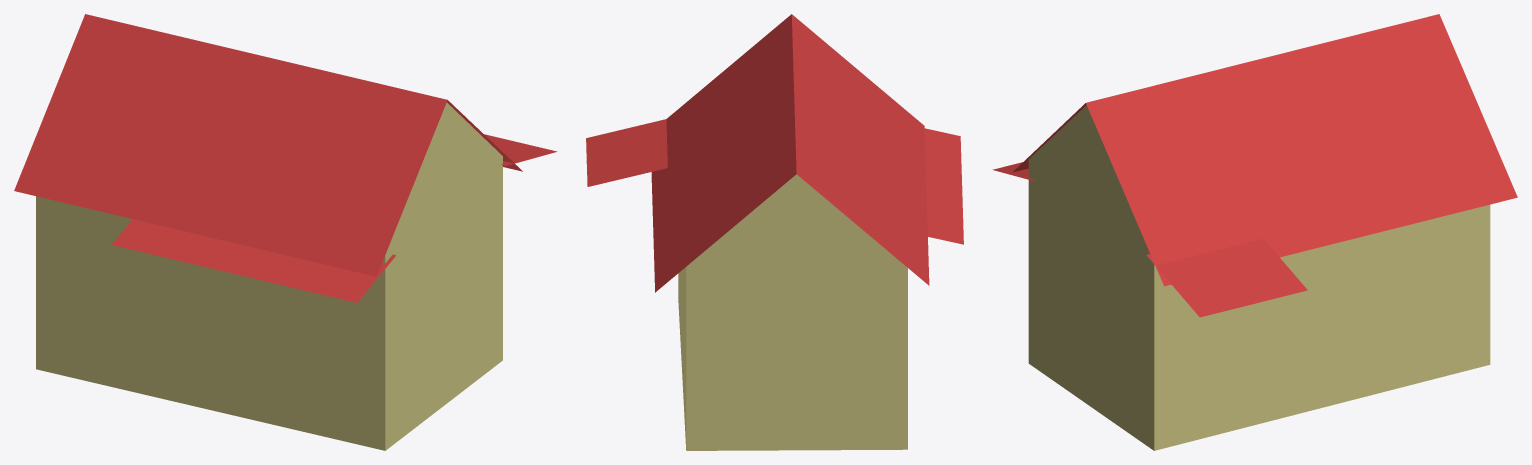
3 views of the same model, side by side, from view 1: azimuth 30°, elevation 25°; view 2: azimuth 150°, elevation 25°; view 3: azimuth 270°, elevation 25° (orthographic). The views are drawn at different scales.
Bounding box in the file's own units: 19.1 × 19.09 × 12.2.
